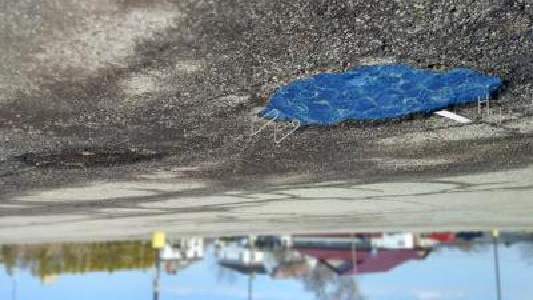pothole: (253, 64, 510, 134), (14, 145, 169, 172)
